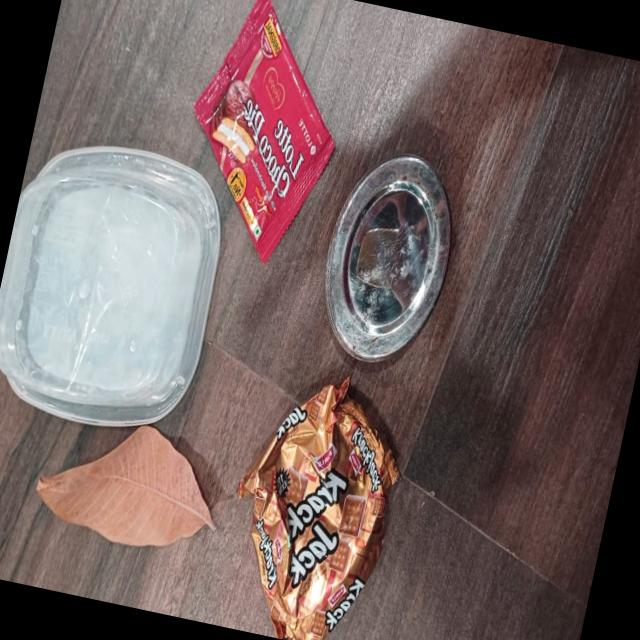Leaf-Bio: (22, 405, 235, 564)
Plastic-NonBio: (0, 127, 237, 442), (141, 0, 368, 272), (205, 358, 420, 640)
Steel-NonBio: (306, 142, 470, 372)
